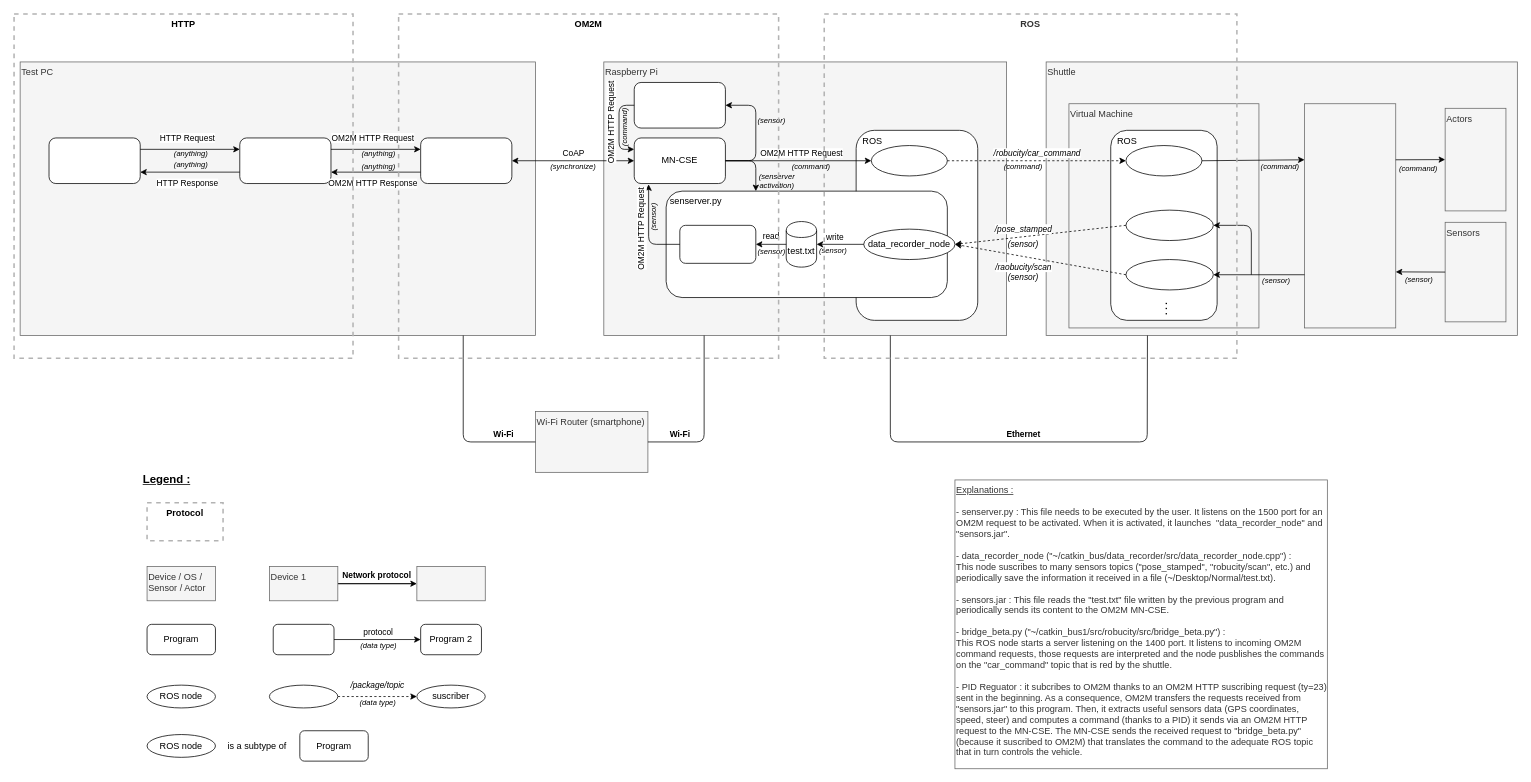
Image size: 1531x782. Some labels were removed from this diagram. Here are the shapes that lost their labels. From the top down, the centre of each, then its label:
At [679,105]: "PID Regulator".
At [94,160]: "Web Client".
At [285,160]: "Node.JS Web Server".
At [466,160]: "IN-CSE".
At [909,160]: "bridge_beta.py".
At [1163,160]: "<unknown_node>".
At [1169,225]: "<unknown_node_1>".
At [1350,215]: "Windows OS".
At [717,244]: "sensors.jar".
At [1169,274]: "<unknown_node_2>".
At [450,583]: "Device 2".
At [303,639]: "Program 1".
At [303,696]: "publisher".
